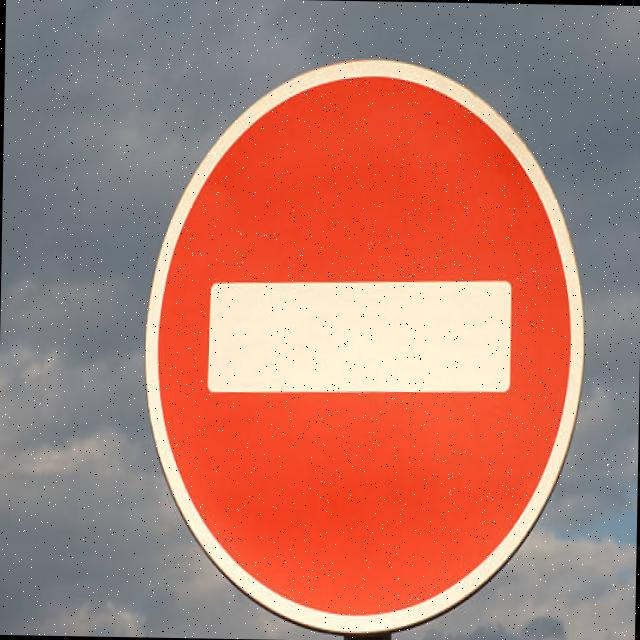do_not_enter: (136, 43, 590, 640)
